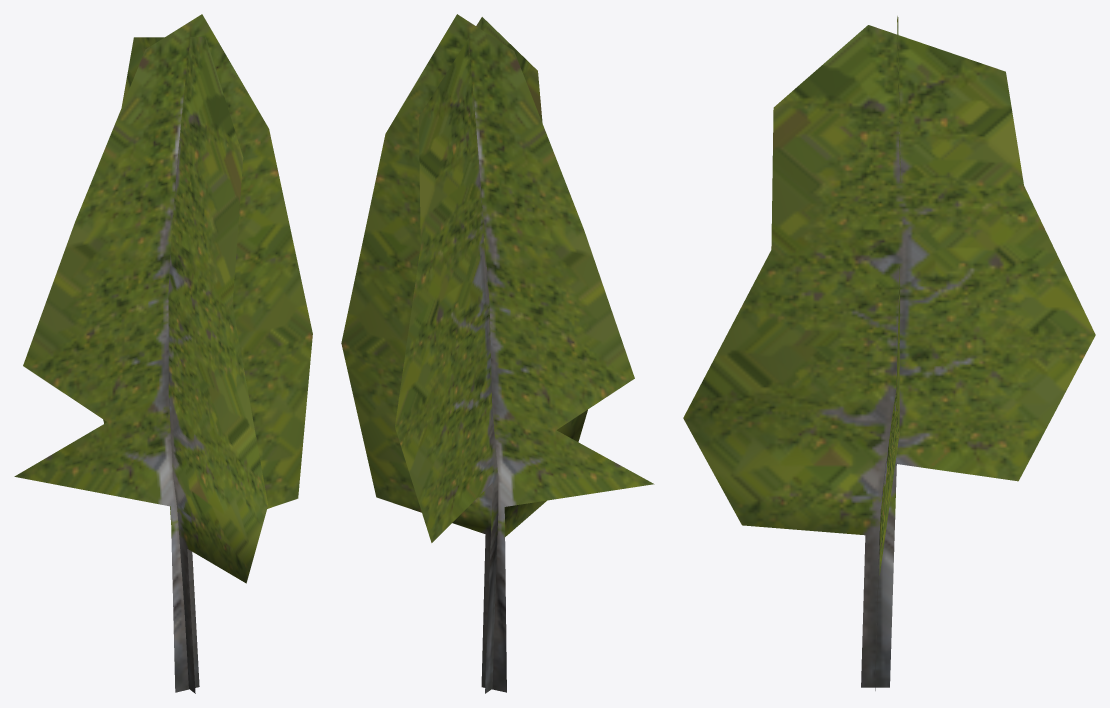
File: Tree1_LOD3.glb
The picture shows the model from 3 angles, left to right: view 1: azimuth 30°, elevation 25°; view 2: azimuth 150°, elevation 25°; view 3: azimuth 270°, elevation 25°; orthographic projection. The views are drawn at different scales.
Parts seen in each view (by area): view 1: beech_tree_01_cross_s; view 2: beech_tree_01_cross_s; view 3: beech_tree_01_cross_s.
Boxes of the visible parts, x1=… form: beech_tree_01_cross_s: x1=14, y1=14, x2=312, y2=693; beech_tree_01_cross_s: x1=341, y1=14, x2=654, y2=693; beech_tree_01_cross_s: x1=683, y1=16, x2=1095, y2=690.
Size of the model in its own units: 4.73 by 9.9 by 5.44.
Materials: 1 (1 with a texture image).
